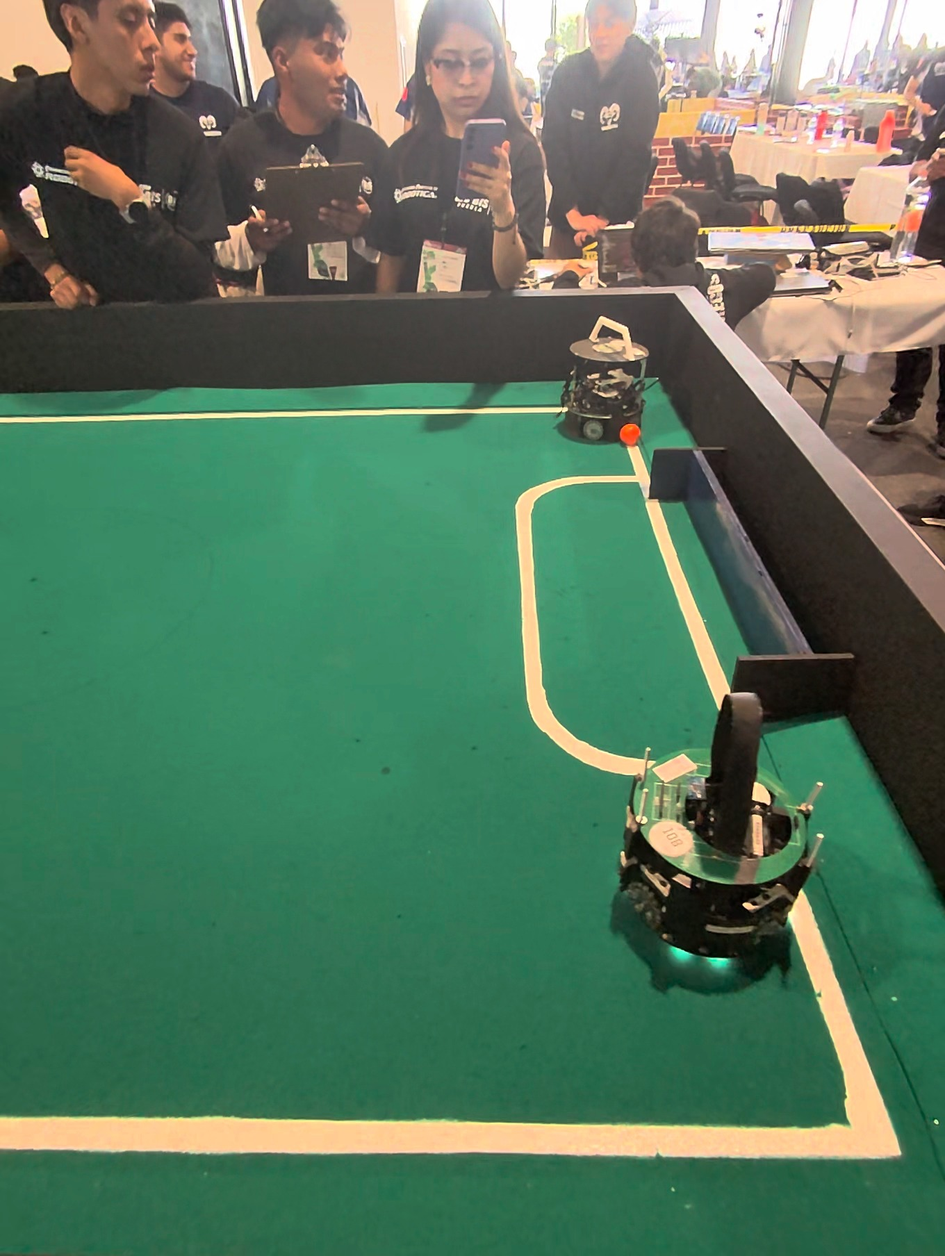Robot: (605, 676, 843, 1009), (550, 311, 651, 454)
pelota: (616, 419, 646, 464)
